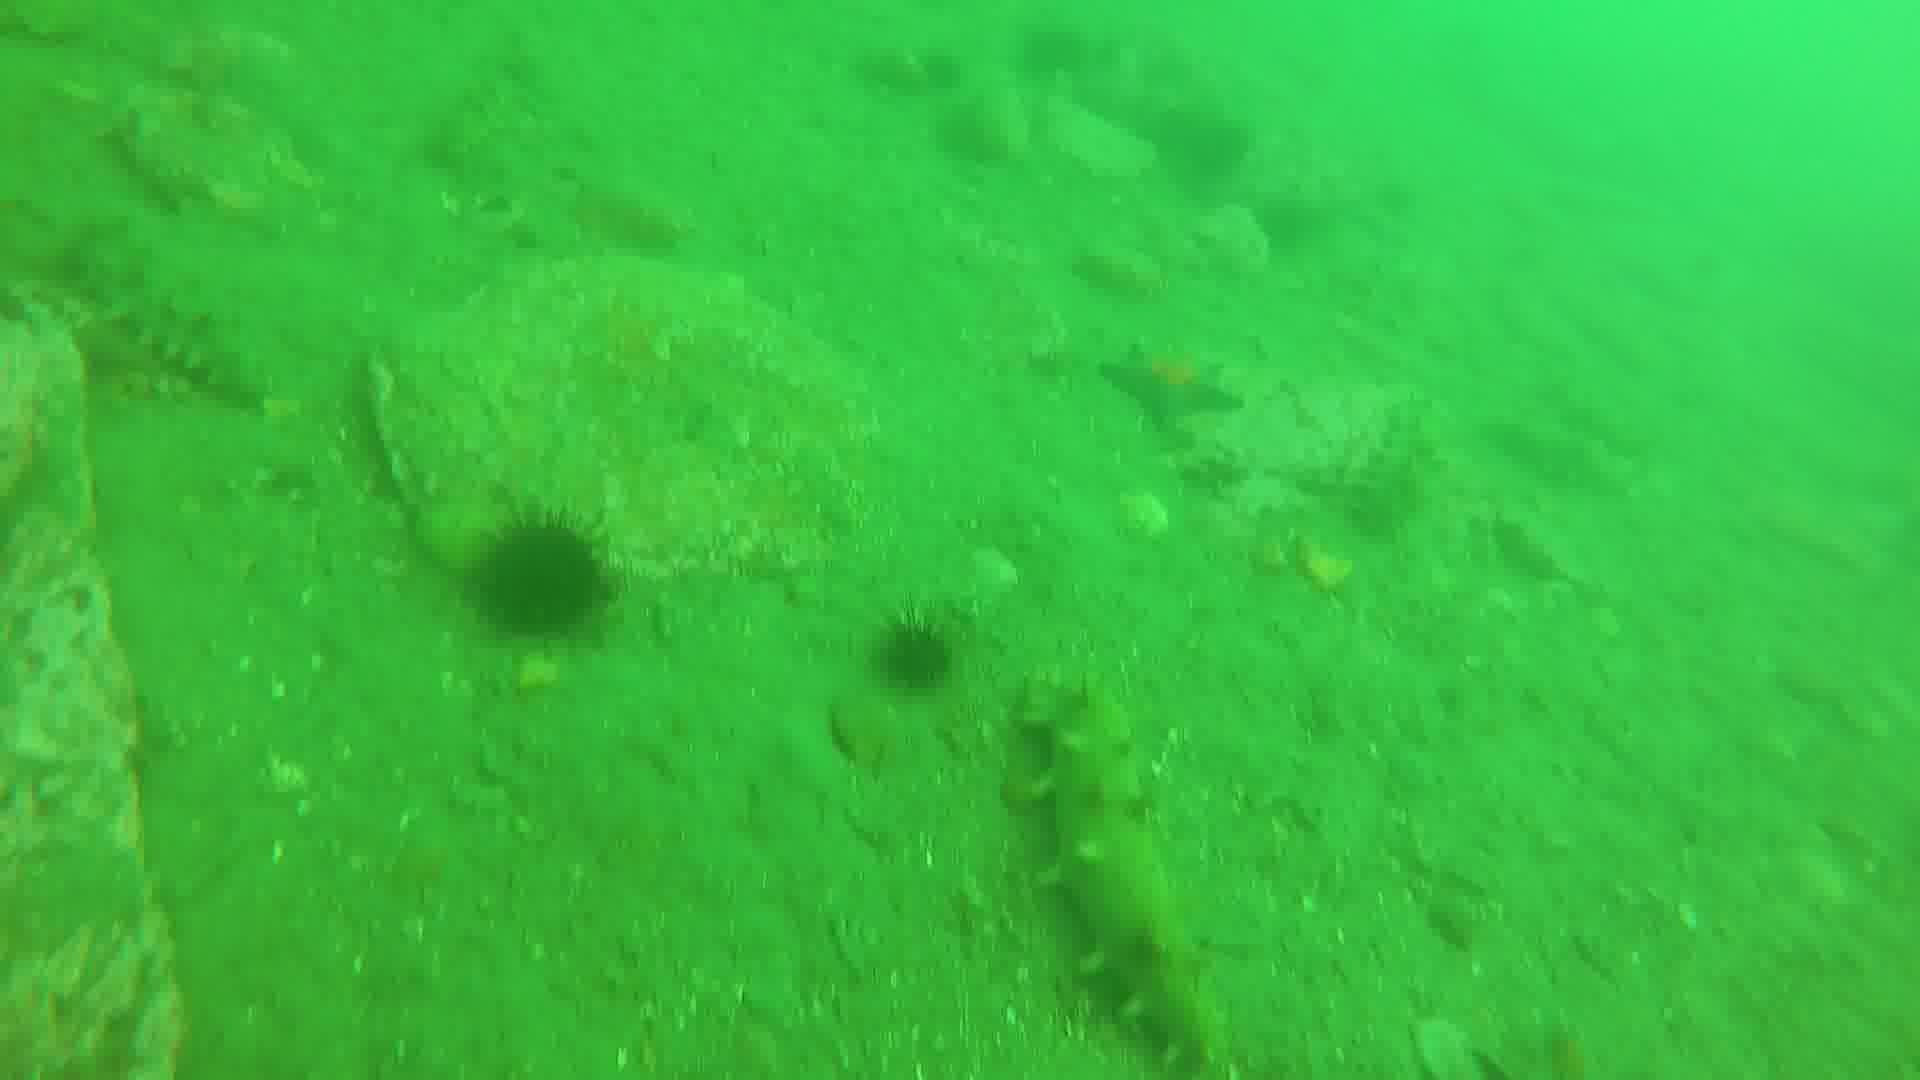echinus: (476, 512, 607, 644), (866, 615, 956, 698)
holothurian: (1036, 692, 1230, 1076), (47, 214, 276, 407)
starfish: (1100, 342, 1238, 426)
